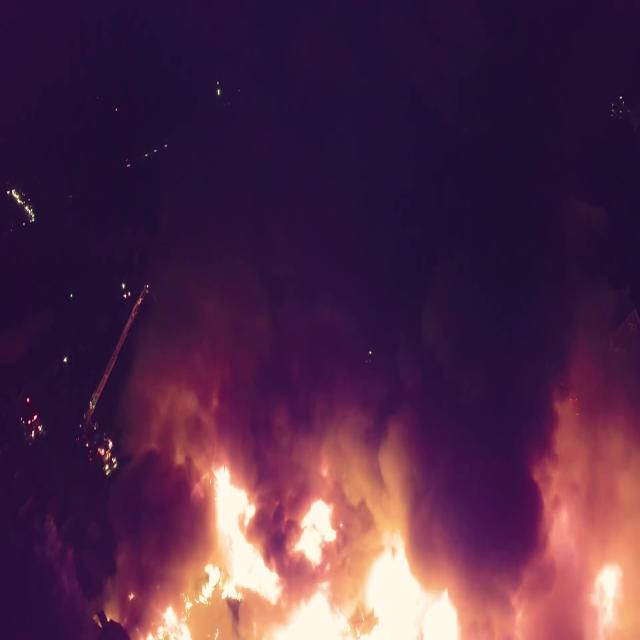Fire: (92, 327, 640, 637)
Smoke: (93, 0, 640, 634)
